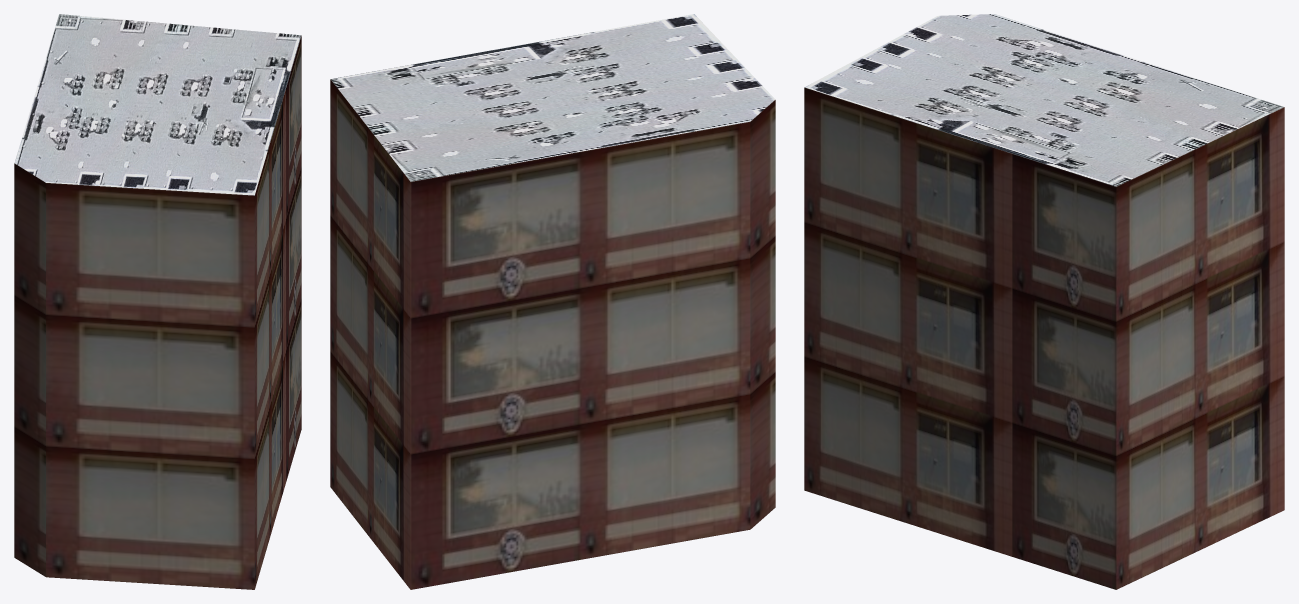
Rendered from ResTex__4959.fbx.
The picture shows the model from 3 angles, left to right: view 1: azimuth 30°, elevation 25°; view 2: azimuth 150°, elevation 25°; view 3: azimuth 270°, elevation 25°; orthographic projection. The views are drawn at different scales.
Visible parts, largest first — view 1: CityEngineMaterial_13_m, CityEngineMaterial_4_m; view 2: CityEngineMaterial_13_m, CityEngineMaterial_4_m; view 3: CityEngineMaterial_13_m, CityEngineMaterial_4_m.
Boxes of the visible parts, x1=… form: CityEngineMaterial_13_m: x1=14, y1=35, x2=301, y2=589; CityEngineMaterial_4_m: x1=14, y1=14, x2=301, y2=195; CityEngineMaterial_13_m: x1=330, y1=79, x2=775, y2=589; CityEngineMaterial_4_m: x1=330, y1=14, x2=775, y2=181; CityEngineMaterial_13_m: x1=804, y1=87, x2=1284, y2=589; CityEngineMaterial_4_m: x1=805, y1=14, x2=1283, y2=186.
Size of the model in its own units: 8.28 by 9 by 9.72.
Materials: 2 (2 with a texture image).
